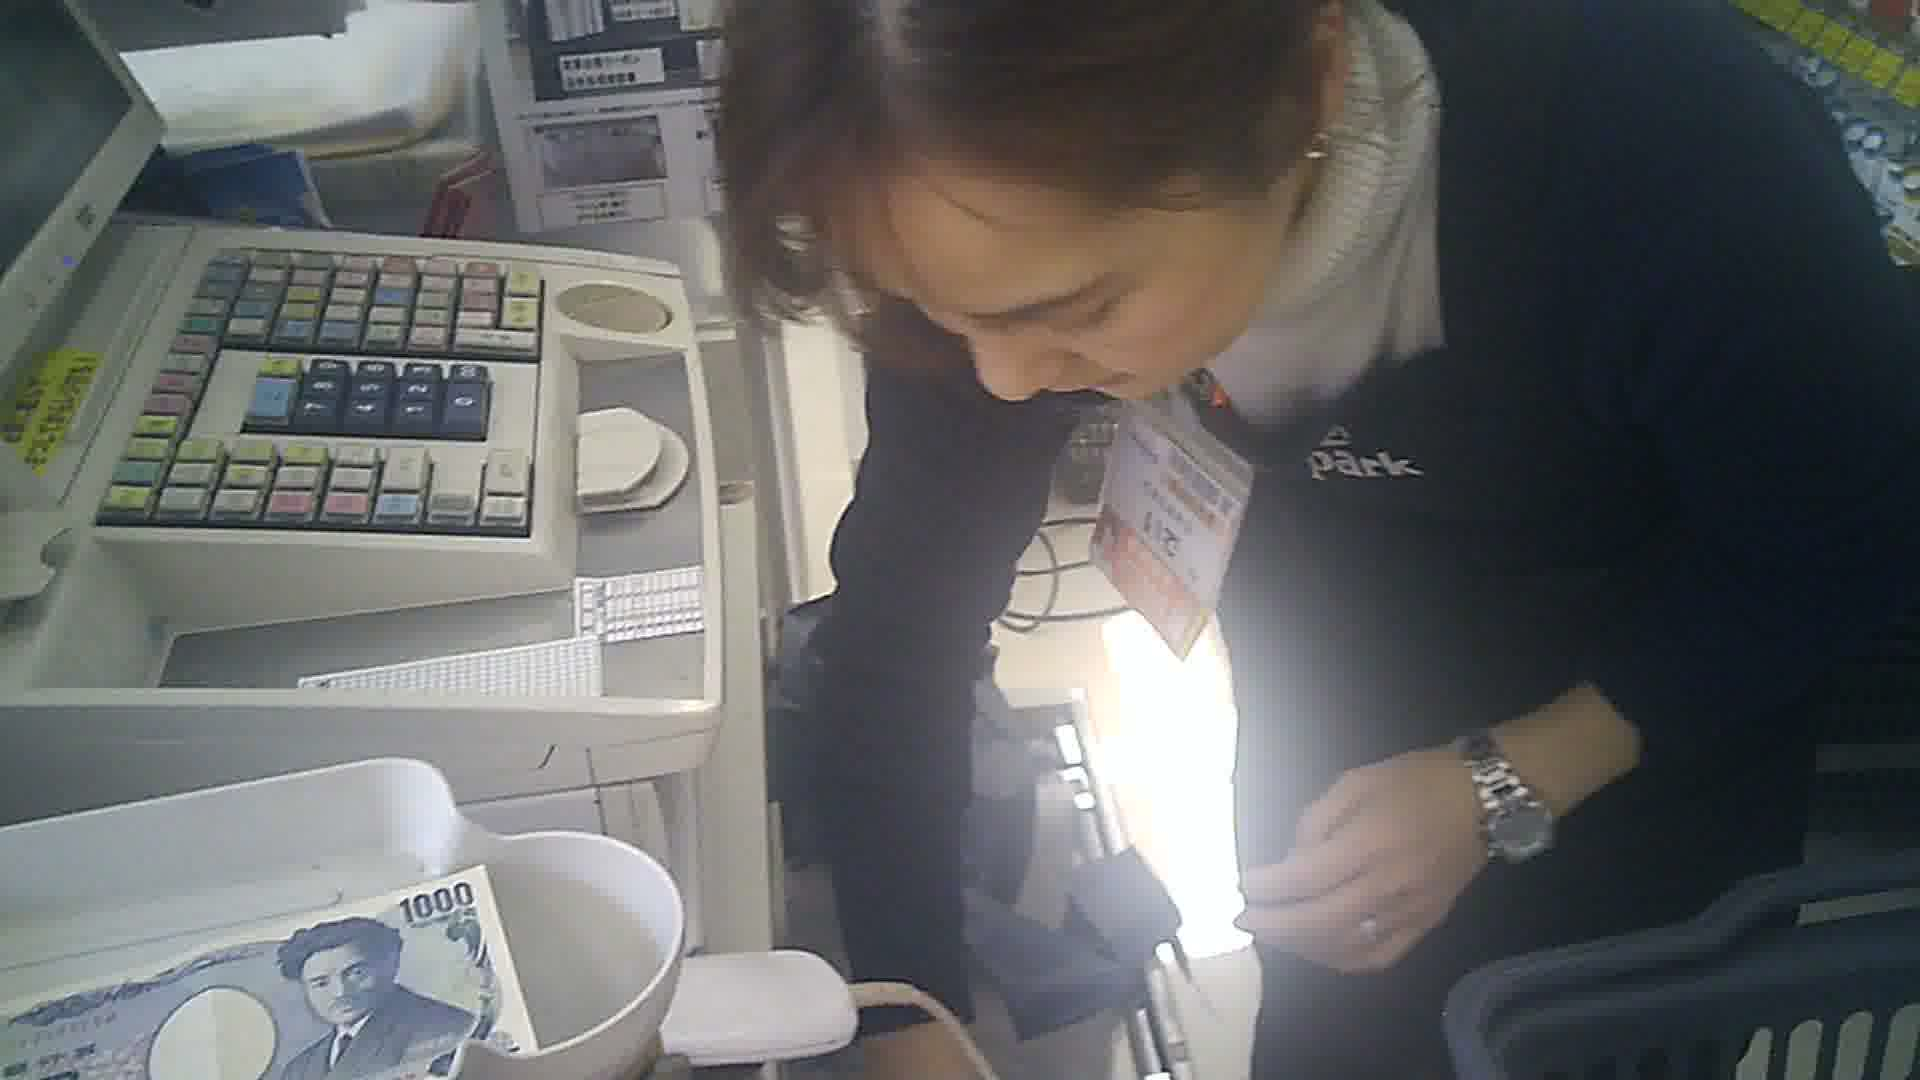1,000 Yen: (5, 869, 575, 1069)
